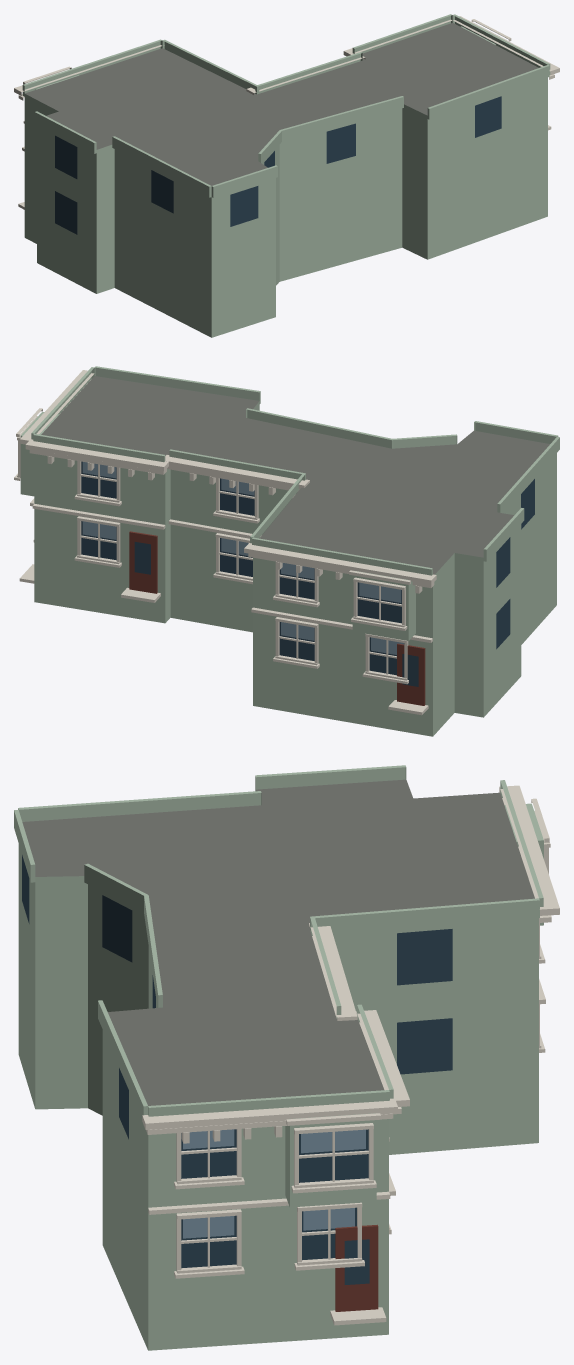
The picture shows the model from 3 angles, top to bottom: view 1: azimuth 30°, elevation 25°; view 2: azimuth 150°, elevation 25°; view 3: azimuth 270°, elevation 25°; orthographic projection. The views are drawn at different scales.
Parts seen in each view (by area): view 1: Footprint 0 / surface 2, Footprint 0 / surface 1, Facade bay volumes, Inset glazing, Cornices and window frames; view 2: Footprint 0 / surface 2, Footprint 0 / surface 1, Cornices and window frames, Facade bay volumes, Inset glazing, Sky reflection panels, Storefronts and doors; view 3: Footprint 0 / surface 2, Footprint 0 / surface 1, Facade bay volumes, Cornices and window frames, Inset glazing, Sky reflection panels, Storefronts and doors.
Part boxes in pixels (x1,y1,x2,y2): Footprint 0 / surface 2: [24, 60, 547, 337]; Footprint 0 / surface 1: [25, 23, 538, 185]; Facade bay volumes: [22, 14, 550, 197]; Inset glazing: [55, 96, 501, 234]; Cornices and window frames: [14, 16, 559, 209]; Footprint 0 / surface 2: [34, 401, 556, 736]; Footprint 0 / surface 1: [41, 376, 549, 574]; Cornices and window frames: [14, 370, 436, 715]; Facade bay volumes: [20, 366, 559, 640]; Inset glazing: [81, 461, 534, 686]; Sky reflection panels: [82, 462, 403, 654]; Storefronts and doors: [129, 531, 425, 705]; Footprint 0 / surface 2: [18, 790, 538, 1350]; Footprint 0 / surface 1: [22, 779, 534, 1105]; Facade bay volumes: [14, 765, 543, 1207]; Cornices and window frames: [142, 785, 559, 1325]; Inset glazing: [22, 855, 452, 1284]; Sky reflection panels: [183, 1129, 365, 1238]; Storefronts and doors: [335, 1224, 378, 1311].
Size of the model in its own units: 21.19 by 6.92 by 13.98.
